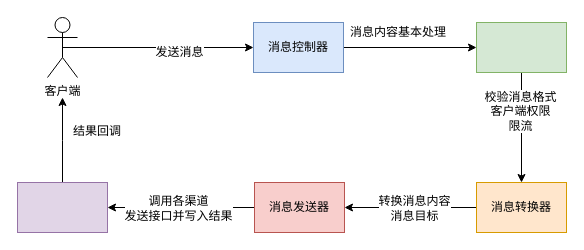
Some shapes in this 584 by 250 pixel diagram are drawn without their labels. Here are the shapes that lost their labels. From the top down, the centre of each, then its label:
At (x=521, y=47): "消息校验器".
At (x=62, y=207): "结果处理器".
